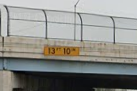0: (65, 47, 72, 56)
1: (46, 46, 52, 57), (62, 47, 67, 56)
3: (51, 46, 57, 55)
overheadsign: (43, 46, 80, 56)
